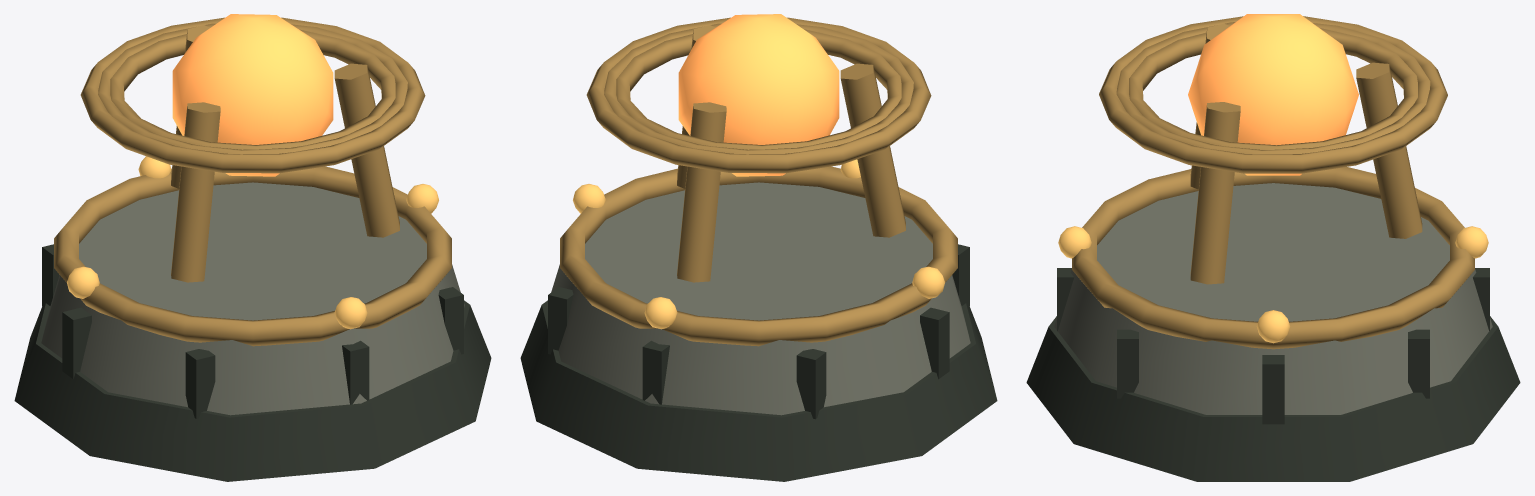
Rendered from tower_meteor_meteorForge.glb.
3 views of the same model, side by side, from view 1: azimuth 30°, elevation 25°; view 2: azimuth 150°, elevation 25°; view 3: azimuth 270°, elevation 25° (orthographic).
Visible parts, largest first — view 1: stone_1, foot_0, rim_2, meteor_18, armillary_21, armillary_19, claw_17, claw_16, armillary_20, mortar_6, mortar_7, mortar_5 (+7 smaller); view 2: stone_1, foot_0, rim_2, meteor_18, armillary_21, armillary_19, claw_15, claw_17, armillary_20, mortar_8, mortar_7, mortar_9 (+5 smaller); view 3: stone_1, foot_0, rim_2, meteor_18, armillary_21, armillary_19, claw_16, claw_15, armillary_20, mortar_3, mortar_4, mortar_10 (+5 smaller).
Part boxes in pixels (bbox=[...]): stone_1: bbox=[41, 182, 464, 415]; foot_0: bbox=[14, 300, 491, 481]; rim_2: bbox=[54, 166, 451, 346]; meteor_18: bbox=[172, 14, 333, 176]; armillary_21: bbox=[80, 17, 425, 173]; armillary_19: bbox=[110, 29, 395, 149]; claw_17: bbox=[171, 102, 220, 282]; claw_16: bbox=[334, 63, 399, 237]; armillary_20: bbox=[98, 23, 407, 154]; mortar_6: bbox=[185, 349, 215, 419]; mortar_7: bbox=[62, 307, 91, 379]; mortar_5: bbox=[342, 340, 369, 404]; stone_1: bbox=[547, 182, 970, 415]; foot_0: bbox=[520, 300, 997, 481]; rim_2: bbox=[560, 166, 957, 346]; meteor_18: bbox=[678, 14, 839, 176]; armillary_21: bbox=[586, 17, 931, 173]; armillary_19: bbox=[616, 29, 901, 149]; claw_15: bbox=[677, 102, 726, 282]; claw_17: bbox=[840, 63, 905, 237]; armillary_20: bbox=[604, 23, 913, 154]; mortar_8: bbox=[796, 349, 826, 419]; mortar_7: bbox=[920, 307, 949, 379]; mortar_9: bbox=[642, 340, 669, 404]; stone_1: bbox=[1054, 183, 1492, 414]; foot_0: bbox=[1026, 316, 1520, 481]; rim_2: bbox=[1072, 167, 1474, 349]; meteor_18: bbox=[1188, 14, 1358, 175]; armillary_21: bbox=[1099, 16, 1447, 173]; armillary_19: bbox=[1129, 28, 1417, 149]; claw_16: bbox=[1190, 102, 1240, 284]; claw_15: bbox=[1356, 62, 1422, 238]; armillary_20: bbox=[1116, 22, 1430, 154]; mortar_3: bbox=[1262, 355, 1284, 424]; mortar_4: bbox=[1117, 329, 1138, 398]; mortar_10: bbox=[1408, 329, 1429, 398].
Bounding box in the file's own units: 0.5326 × 0.457 × 0.56.
